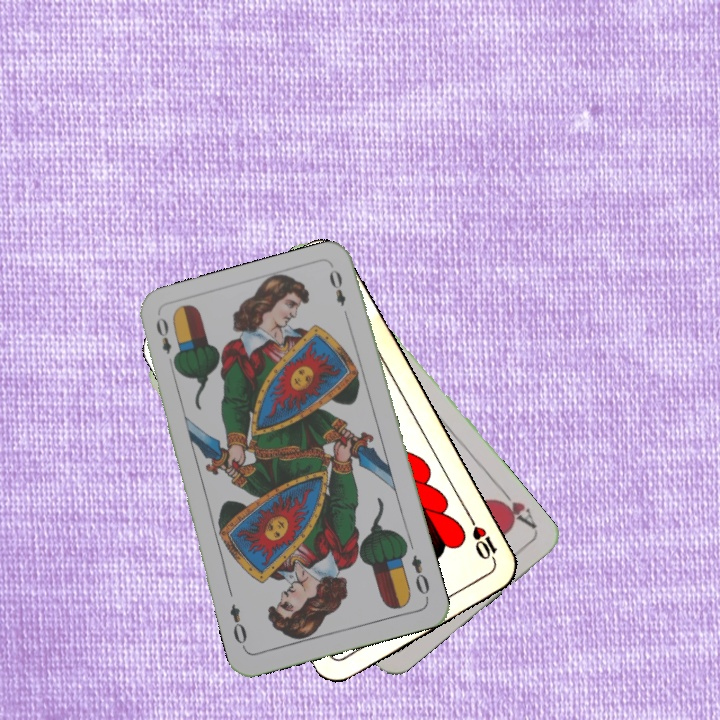EO: (152, 313, 179, 371), (407, 551, 432, 602)
H10: (465, 512, 500, 567)
HA: (490, 484, 539, 532)
